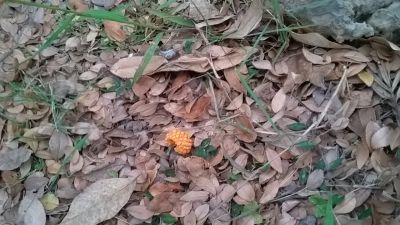eggs: (165, 130, 193, 155)
